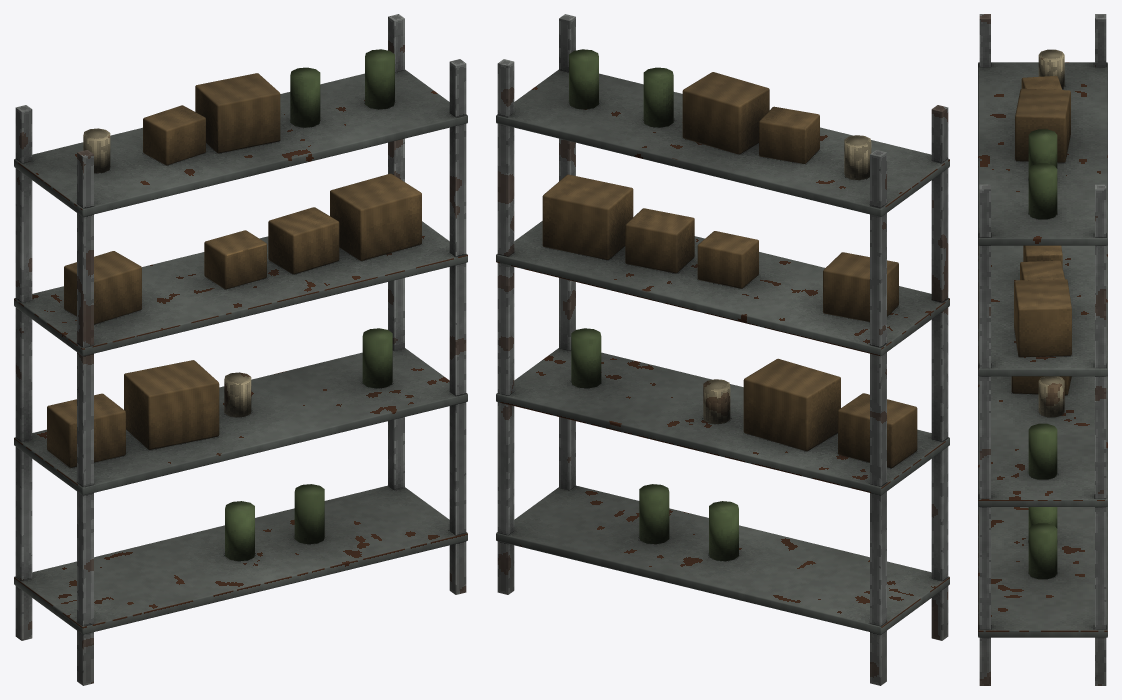
Rendered from shelf.glb.
The picture shows the model from 3 angles, left to right: view 1: azimuth 30°, elevation 25°; view 2: azimuth 150°, elevation 25°; view 3: azimuth 270°, elevation 25°; orthographic projection. The views are drawn at different scales.
Parts seen in each view (by area): view 1: shelf; view 2: shelf; view 3: shelf.
Boxes of the visible parts, left/top/right/bottom form: shelf: left=14, top=14, right=467, bottom=685; shelf: left=496, top=14, right=949, bottom=685; shelf: left=978, top=14, right=1107, bottom=685.
Bounding box in the file's own units: 1.45 × 1.9 × 0.45.
Materials: 1 (1 with a texture image).
